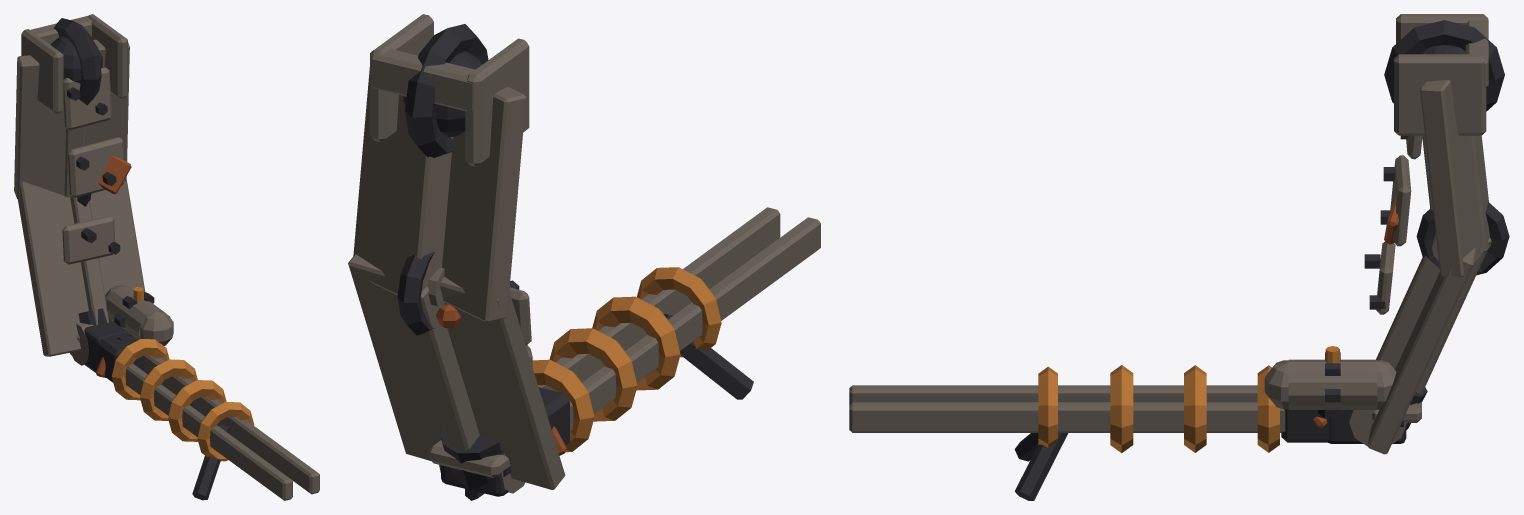
The model's file is ar_railgun.glb.
3 views of the same model, side by side, from view 1: azimuth 30°, elevation 25°; view 2: azimuth 150°, elevation 25°; view 3: azimuth 270°, elevation 25° (orthographic). The views are drawn at different scales.
Visible parts, largest first — view 1: ar_railgun; view 2: ar_railgun; view 3: ar_railgun.
Part boxes in pixels (x1=…): ar_railgun: x1=14, y1=14, x2=319, y2=500; ar_railgun: x1=348, y1=14, x2=820, y2=500; ar_railgun: x1=849, y1=14, x2=1509, y2=500.
Bounding box in the file's own units: 0.1165 × 0.362 × 0.4696.
